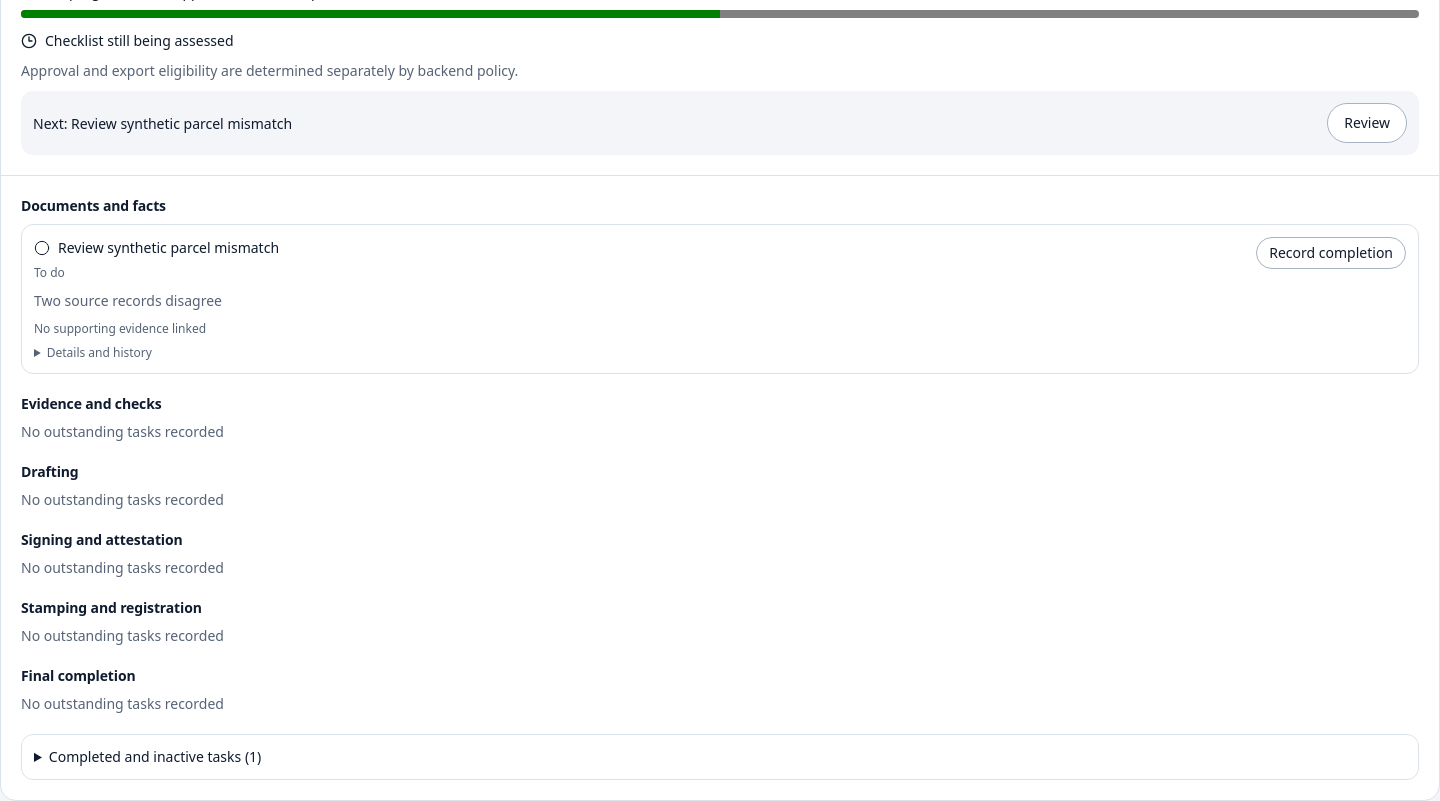
shows recorded completion and assessment uncertainty without implying approval
The width and height of the screenshot is (1440, 801).
(page scrolled)
Expected: the progress indicator holds "50", left=21, top=10, right=1419, bottom=18
Expected: the text "Checklist still being assessed" is shown, left=21, top=31, right=234, bottom=50
Click the heading "Completed and inactive tasks (1)". click: (155, 756)
box: left=49, top=746, right=261, bottom=766
(page scrolled)
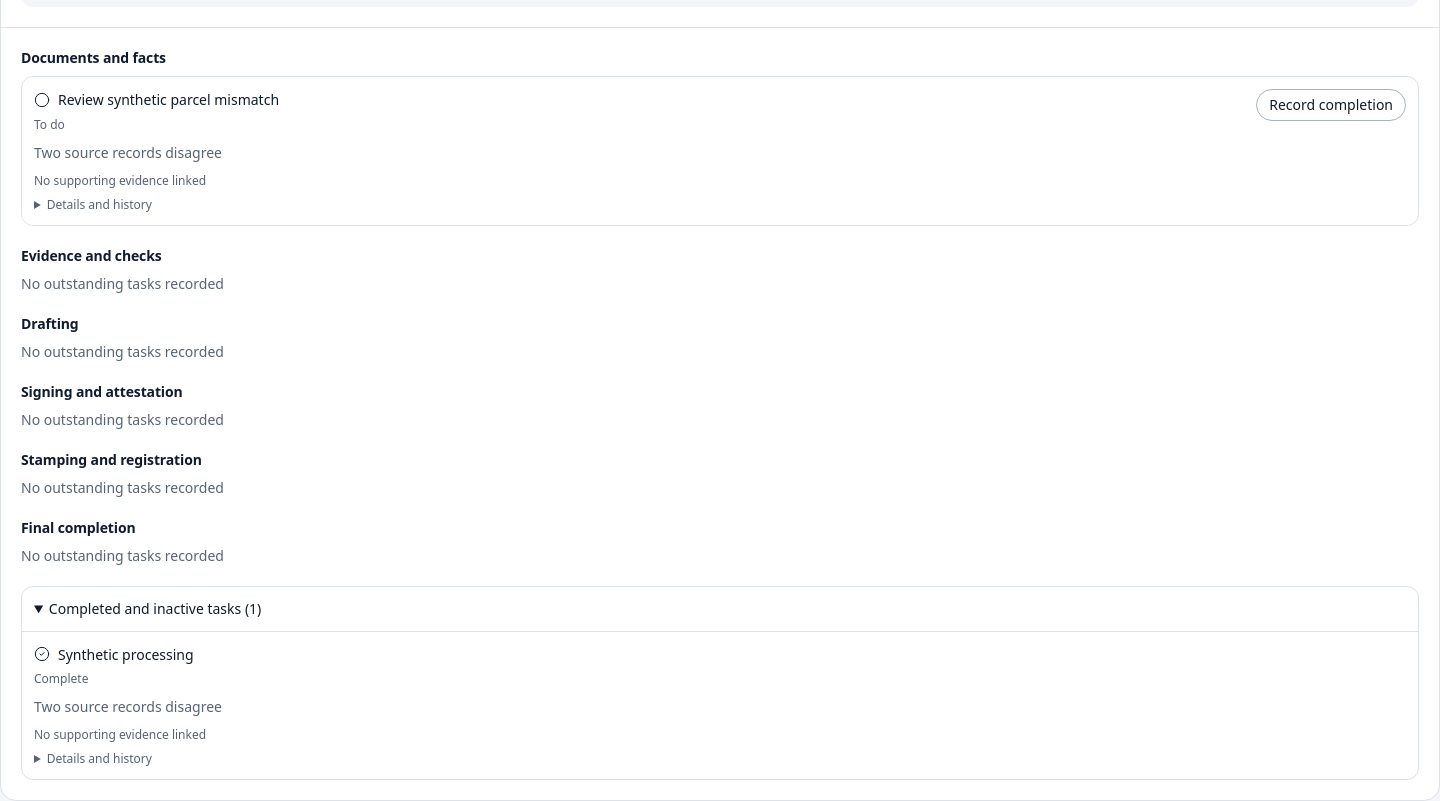
Expected: the text "Synthetic processing" is shown, left=58, top=644, right=194, bottom=664
